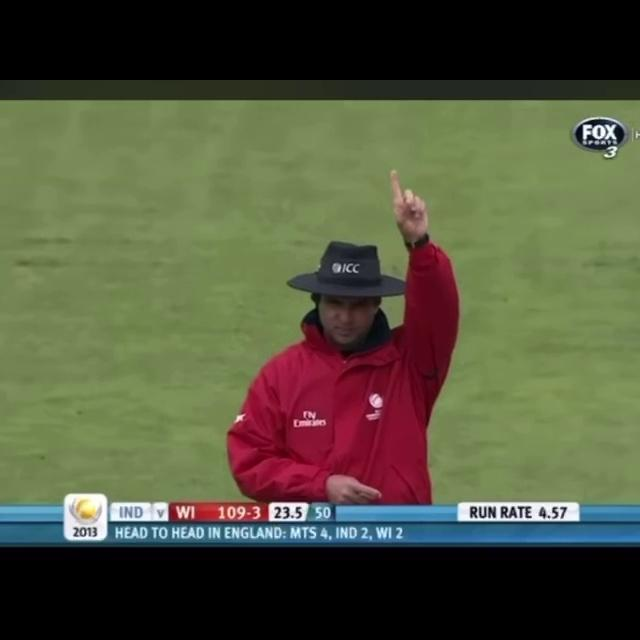umpire: (192, 157, 490, 507)
